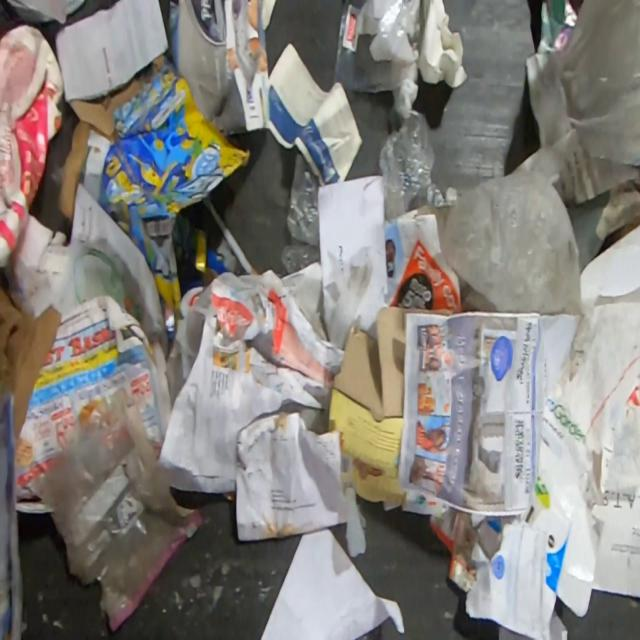cardboard: (56, 52, 252, 314), (324, 305, 452, 513), (0, 22, 65, 270), (169, 0, 277, 137), (526, 438, 599, 640), (0, 279, 62, 436)
soft_plastic: (32, 386, 205, 634), (511, 0, 640, 186), (440, 168, 584, 315), (331, 0, 423, 109), (378, 105, 459, 223), (280, 154, 322, 276)
